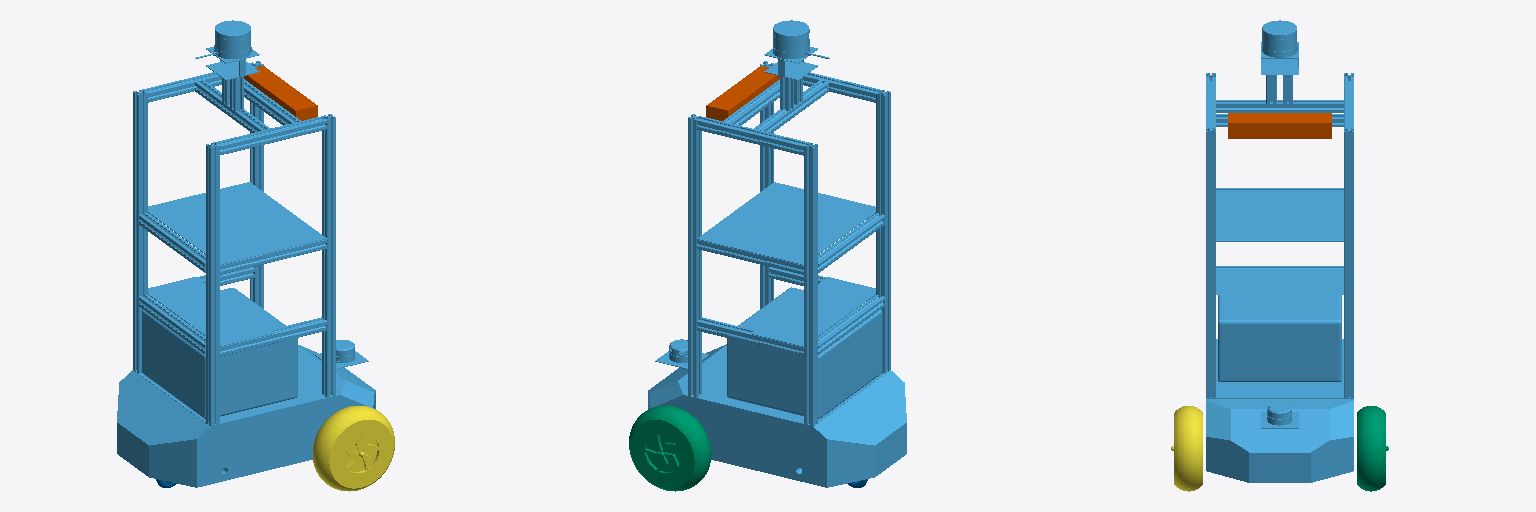
robot.urdf — autolabor_description:
<?xml version="1.0"?>
<robot name="autolabor_description">
  <joint name="dummy_joint" type="fixed">
    <parent link="base_link"/>
    <child link="body"/>
    <origin xyz="0 0 0.124" rpy="0 0 0"/>
  </joint>
  <joint name="imu_joint" type="fixed">
    <parent link="body"/>
    <child link="imu"/>
    <origin rpy="0 0 0" xyz="0 0 0"/>
  </joint>
  <joint name="cam_joint" type="fixed">
    <parent link="body"/>
    <child link="camera"/>
    <origin xyz="0.135 0 1.02" rpy="0 0 0"/>
  </joint>
  <joint name="point_joint" type="fixed">
    <parent link="body"/>
    <child link="point"/>
    <origin xyz="0 0 1.25" rpy="0 0 0"/>
  </joint>
  <joint name="ray_joint" type="fixed">
    <parent link="body"/>
    <child link="ray"/>
    <origin xyz="0.35 0 0.2" rpy="0 0 0"/>
  </joint>
  <joint name="fljoint" type="continuous">
    <parent link="body"/>
    <child link="flw"/>
    <origin rpy="0 0 0" xyz="0.22 0.275 0.03"/>
    <axis xyz="0 1 0"/>
  </joint>
  <joint name="frjoint" type="continuous">
    <parent link="body"/>
    <child link="frw"/>
    <origin rpy="0 0 0" xyz="0.22 -0.275 0.03"/>
    <axis xyz="0 1 0"/>
  </joint>
  <joint name="cjoint" type="fixed">
    <parent link="body"/>
    <child link="caster"/>
    <origin rpy="0 0 0" xyz="-0.221 0 -0.056"/>
  </joint>

  <link name="base_link"/>
  <link name="body">
    <inertial>
      <mass value="40"/>
      <origin rpy="0  0  0" xyz="0 0 0"/>
      <inertia ixx="5.95042" ixy="0" ixz="0" iyy="7.091" iyz="0" izz="2.37325"/>
    </inertial>
    <collision>
      <origin rpy="0  0  0" xyz="0 0 0"/>
      <geometry>
        <mesh filename="package://autolabor_description/meshes/3d_model/body.stl" scale="0.001 0.001 0.001"/>
      </geometry>
    </collision>
    <visual>
      <origin rpy="0  0  0" xyz="0 0 0"/>
      <geometry>
        <mesh filename="package://autolabor_description/meshes/3d_model/body.stl" scale="0.001 0.001 0.001"/>
      </geometry>
    </visual>
  </link>
  <link name="flw">
    <inertial>
      <mass value="5"/>
      <origin rpy="3.141592654  0  0" xyz="0 0 0"/>
      <inertia ixx="0.729167" ixy="0" ixz="0" iyy="0.729167" iyz="0" izz="0.625"/>
    </inertial>
    <collision>
      <origin rpy="3.141592654  0  0" xyz="0  0  0"/>
      <geometry>
        <mesh filename="package://autolabor_description/meshes/3d_model/frw.stl" scale="0.001 0.001 0.001"/>
      </geometry>
    </collision>
    <visual>
      <origin rpy="3.141592654  0  0" xyz="0  0  0"/>
      <geometry>
        <mesh filename="package://autolabor_description/meshes/3d_model/frw.stl" scale="0.001 0.001 0.001"/>
      </geometry>
    </visual>
  </link>
  <link name="frw">
    <inertial>
      <mass value="5"/>
      <origin rpy="0  0  0" xyz="0 0 0"/>
      <inertia ixx="0.729167" ixy="0" ixz="0" iyy="0.729167" iyz="0" izz="0.625"/>
    </inertial>
    <collision>
      <origin rpy="0  0  0" xyz="0 0 0"/>
      <geometry>
        <mesh filename="package://autolabor_description/meshes/3d_model/frw.stl" scale="0.001 0.001 0.001"/>
      </geometry>
    </collision>
    <visual>
      <origin rpy="0  0  0" xyz="0 0 0"/>
      <geometry>
        <mesh filename="package://autolabor_description/meshes/3d_model/frw.stl" scale="0.001 0.001 0.001"/>
      </geometry>
    </visual>
  </link>
  <link name="caster">
    <inertial>
      <mass value="5"/>
      <origin rpy="0  0  0" xyz="0 0 0"/>
      <inertia ixx="0.729167" ixy="0" ixz="0" iyy="0.729167" iyz="0" izz="0.625"/>>
    </inertial>
    <collision>
      <origin rpy="0  0  0" xyz="0  0  0"/>
      <geometry>
        <mesh filename="package://autolabor_description/meshes/3d_model/caster.stl" scale="0.001 0.001 0.001"/>
      </geometry>
    </collision>
    <visual>
      <origin rpy="0  0  0" xyz="0  0  0"/>
      <geometry>
        <mesh filename="package://autolabor_description/meshes/3d_model/caster.stl" scale="0.001 0.001 0.001"/>
      </geometry>
    </visual>
  </link>
  <link name="camera">
    <inertial>
      <mass value="0.001"/>
      <origin rpy="0 0 0" xyz="0 0 0"/>
      <inertia ixx="0.00000791" iyy="0.00000124" izz="0.00000833" ixy="0" ixz="0" iyz="0"/>
    </inertial>
    <collision>
      <origin rpy="0 0 0" xyz="0 0 0"/>
      <geometry>
        <box size="0.07 0.3 0.05"/>
      </geometry>
    </collision>
    <visual>
      <origin rpy="0 0 0" xyz="0 0 0"/>
      <geometry>
        <box size="0.07 0.3 0.05"/>
      </geometry>
    </visual>
  </link>
  <link name="ray"/>
  <link name="point"/>
  <link name="imu"/>


  <transmission name="tran1">
    <type>transmission_interface/SimpleTransmission</type>
    <joint name="frjoint">
      <hardwareInterface>hardware_interface/VelocityJointInterface</hardwareInterface>
    </joint>
    <actuator name="motor1">
      <mechanicalReduction>1</mechanicalReduction>
    </actuator>
  </transmission>
  <transmission name="tran2">
    <type>transmission_interface/SimpleTransmission</type>
    <joint name="fljoint">
      <hardwareInterface>hardware_interface/VelocityJointInterface</hardwareInterface>
    </joint>
    <actuator name="motor2">
      <mechanicalReduction>1</mechanicalReduction>
    </actuator>
  </transmission>

  <gazebo reference="base_link">
    <mu1>1e+6</mu1>
    <mu2>1e+6</mu2>
  </gazebo>
  <gazebo reference="flw">
    <mu1>1e+6</mu1>
    <mu2>1e+6</mu2>
  </gazebo>
  <gazebo reference="frw">
    <mu1>1e+6</mu1>
    <mu2>1e+6</mu2>
  </gazebo>
  <gazebo reference="caster">
    <mu1>0</mu1>
    <mu2>0</mu2>
  </gazebo>

  <gazebo reference="imu">
    <gravity>true</gravity>
    <sensor name="imu_sensor" type="imu">
      <always_on>true</always_on>
      <update_rate>100</update_rate>
      <topic>__default_topic__</topic>
      <plugin filename="libgazebo_ros_imu_sensor.so" name="imu_plugin">
        <topicName>imu</topicName>
        <bodyName>imu</bodyName>
        <updateRateHZ>10.0</updateRateHZ>
        <gaussianNoise>0.0</gaussianNoise>
        <xyzOffset>0 0 0</xyzOffset>
        <rpyOffset>0 0 0</rpyOffset>
        <frameName>imu</frameName>
      </plugin>
    </sensor>
  </gazebo>

  <gazebo reference="camera">
    <sensor type="camera" name="camera">
      <update_rate>60.0</update_rate>
      <camera>
        <horizontal_fov>1.5</horizontal_fov>
        <image>
          <width>1080</width>
          <height>720</height>
          <format>R8G8B8</format>
        </image>
        <clip>
          <near>0.1</near>
          <far>10</far>
        </clip>
      </camera>
      <plugin name="camera_controller" filename="libgazebo_ros_camera.so">
        <alwaysOn>true</alwaysOn>
        <cameraName>camera1</cameraName>
        <imageTopicName>image_raw</imageTopicName>
        <cameraInfoTopicName>camera_info</cameraInfoTopicName>
        <frameName>camera</frameName>
      </plugin>
    </sensor>
  </gazebo>

  <gazebo reference="point">
    <sensor type="gpu_ray" name="point">
      <update_rate>60.0</update_rate>
      <ray>
        <scan>
          <horizontal>
            <samples>10000</samples>
            <resolution>1</resolution>
            <min_angle>-3.141592654</min_angle>
            <max_angle>3.141592654</max_angle>
          </horizontal>
          <vertical>
            <samples>16</samples>
            <resolution>1</resolution>
            <min_angle>-0.125</min_angle>
            <max_angle>0.25</max_angle>
          </vertical>
        </scan>
        <range>
          <min>0.1</min>
          <max>10</max>
          <resolution>0.01</resolution>
        </range>
      </ray>
      <plugin name="point_controller" filename="libgazebo_ros_velodyne_gpu_laser.so">
        <topicName>points2</topicName>
        <frameName>point</frameName>
      </plugin>
    </sensor>
  </gazebo>

  <gazebo reference="ray">
    <sensor type="ray" name="ray">
      <update_rate>60.0</update_rate>
      <ray>
        <scan>
          <horizontal>
            <samples>1000</samples>
            <resolution>0.3</resolution>
            <min_angle>-1.178097245</min_angle>
            <max_angle>1.178097245</max_angle>
          </horizontal>
        </scan>
        <range>
          <min>0.28</min>
          <max>16</max>
          <resolution>0.01</resolution>
        </range>
      </ray>
      <plugin name="ray_controller" filename="libgazebo_ros_laser.so">
        <topicName>scan</topicName>
        <frameName>ray</frameName>
      </plugin>
    </sensor>
  </gazebo>

  <gazebo>
    <plugin name="differential_drive_controller" filename="libgazebo_ros_diff_drive.so">
      <alwaysOn>true</alwaysOn>
      <updateRate>100</updateRate>
      <leftJoint>fljoint</leftJoint>
      <rightJoint>frjoint</rightJoint>
      <wheelSeparation>0.55</wheelSeparation>
      <wheelDiameter>0.248</wheelDiameter>
      <torque>20</torque>
      <commandTopic>cmd_vel</commandTopic>
      <odometryTopic>odom</odometryTopic>
      <odometryFrame>odom</odometryFrame>
      <robotBaseFrame>base_link</robotBaseFrame>
      <rosDebugLevel>na</rosDebugLevel>
      <publishWheelTF>false</publishWheelTF>
      <publishOdomTF>true</publishOdomTF>
      <publishWheelJointState>false</publishWheelJointState>
      <wheelAcceleration>1</wheelAcceleration>
      <wheelTorque>50</wheelTorque>
      <publishTf>true</publishTf>
    </plugin>
  </gazebo>

  <gazebo>
    <plugin name="gazebo_ros_control" filename="libgazebo_ros_control.so">
      <robotSimType>gazebo_ros_control/DefaultRobotHWSim</robotSimType>
    </plugin>
  </gazebo>

</robot>

--- Render facts (derived) ---
3 views of the same robot in one strip: view 1: azimuth 30°, elevation 25°; view 2: azimuth 150°, elevation 25°; view 3: azimuth 270°, elevation 25° (orthographic).
Model autolabor_description with 9 links and 8 joints (2 continuous, 6 fixed), rooted at base_link, posed all joints at 0.
Links seen in each view (by area): view 1: body, frw, camera; view 2: body, flw, camera; view 3: body, camera, flw, frw.
Boxes of the visible links, x1,y1,x2,y2 form: body: (117, 20, 375, 487); frw: (313, 405, 394, 491); camera: (244, 66, 317, 120); body: (648, 20, 906, 487); flw: (629, 406, 711, 491); camera: (706, 66, 779, 120); body: (1206, 20, 1353, 482); camera: (1228, 113, 1331, 138); flw: (1357, 406, 1388, 491); frw: (1171, 406, 1202, 491).
Bounding box of the posed robot: 0.726 × 0.6314 × 1.36 m (x, y, z).
4 mesh visuals loaded from 3 distinct referenced files (3 binary STL).
